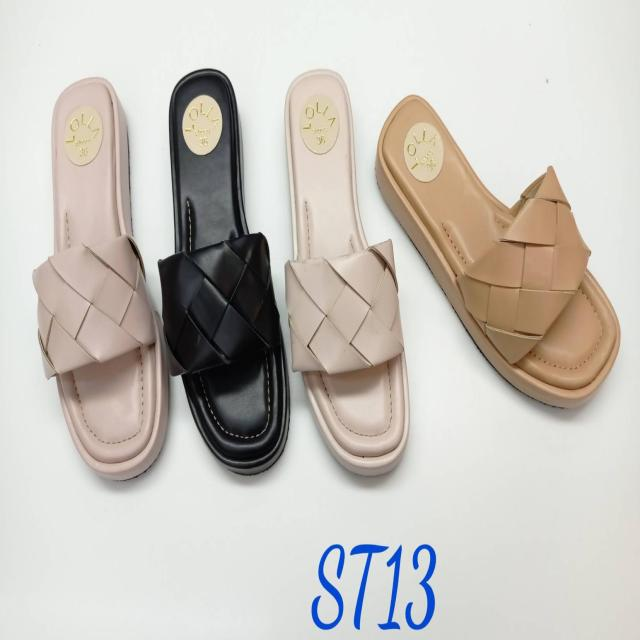black: (166, 73, 286, 464)
cream: (287, 69, 407, 458)
kapi: (55, 78, 165, 478)
tan: (386, 98, 614, 408)
